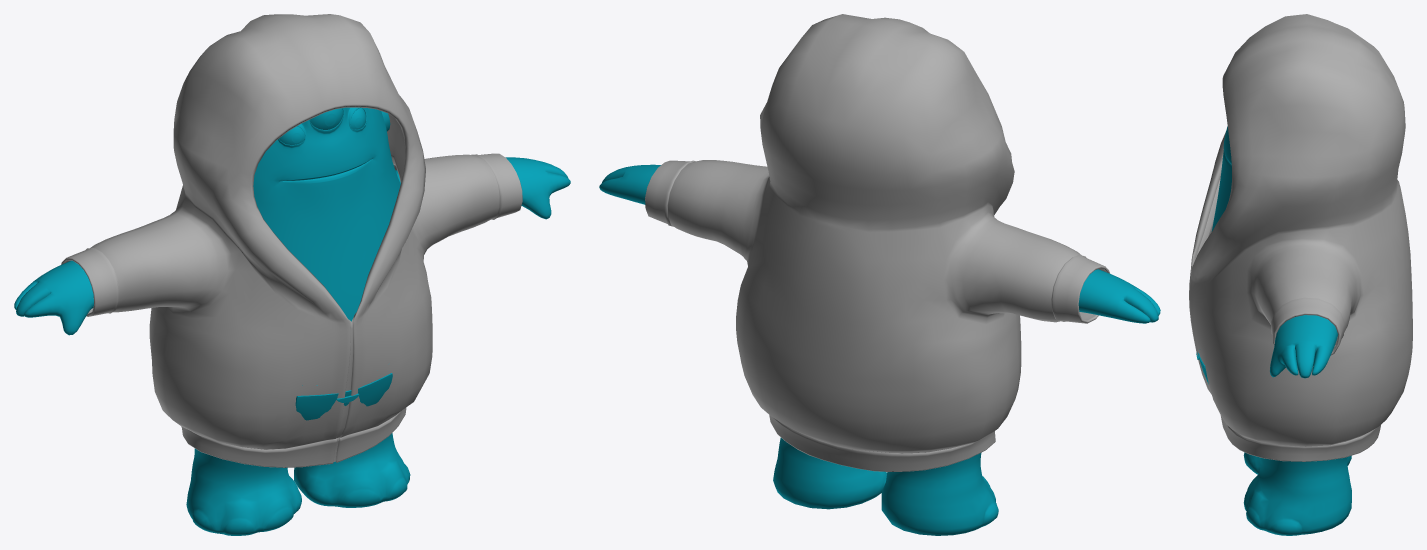
Rendered from monster.fbx.
The picture shows the model from 3 angles, left to right: view 1: azimuth 30°, elevation 25°; view 2: azimuth 150°, elevation 25°; view 3: azimuth 270°, elevation 25°; orthographic projection. The views are drawn at different scales.
Parts seen in each view (by area): view 1: gab_ch_mooshky_jacket, gab_ch_mooshky_body, gab_ch_mooshky_belt_part_2; view 2: gab_ch_mooshky_jacket, gab_ch_mooshky_body; view 3: gab_ch_mooshky_jacket, gab_ch_mooshky_body.
Part boxes in pixels (<box>): gab_ch_mooshky_jacket: <box>61,14,522,467</box>; gab_ch_mooshky_body: <box>14,107,570,535</box>; gab_ch_mooshky_belt_part_2: <box>295,373,392,420</box>; gab_ch_mooshky_jacket: <box>645,14,1109,471</box>; gab_ch_mooshky_body: <box>599,164,1160,535</box>; gab_ch_mooshky_jacket: <box>1189,14,1412,461</box>; gab_ch_mooshky_body: <box>1211,126,1351,535</box>.
Bounding box in the file's own units: 4.09 × 3.37 × 1.5.
